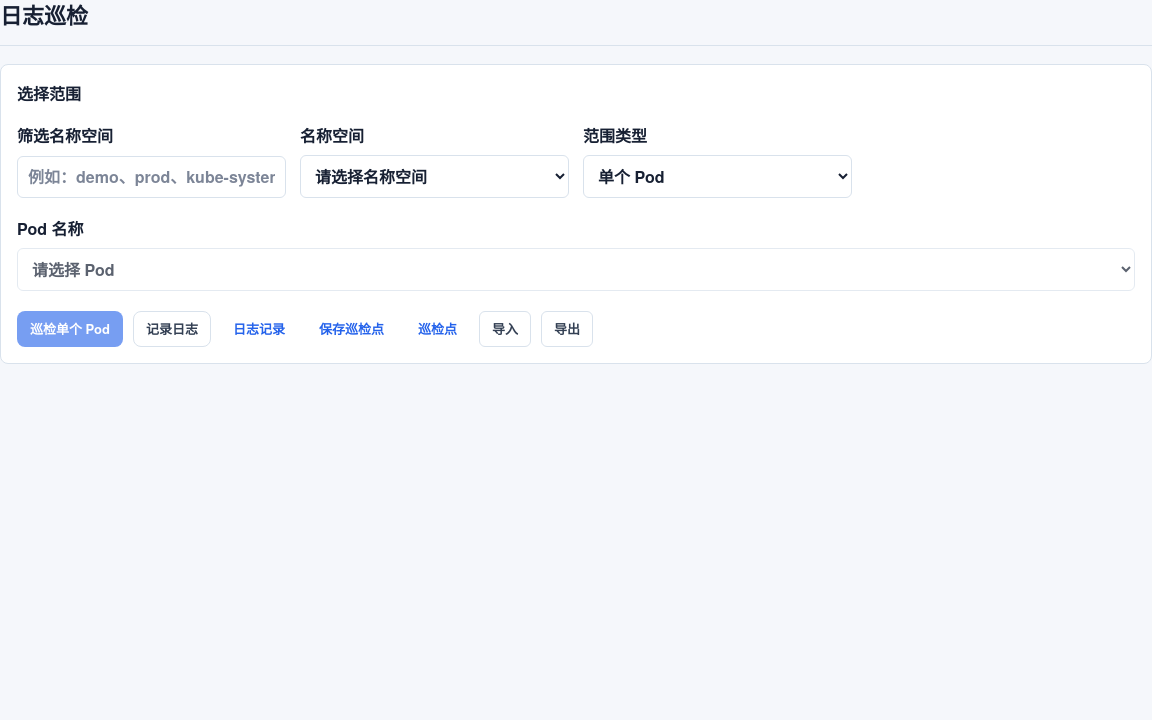
Test: PodInspectionPage › runs label selector mode through namespace inspection
The image size is (1152, 720).
Select "demo" in the dropdown labelled "名称空间" at (434, 176), box [300,155,569,198]
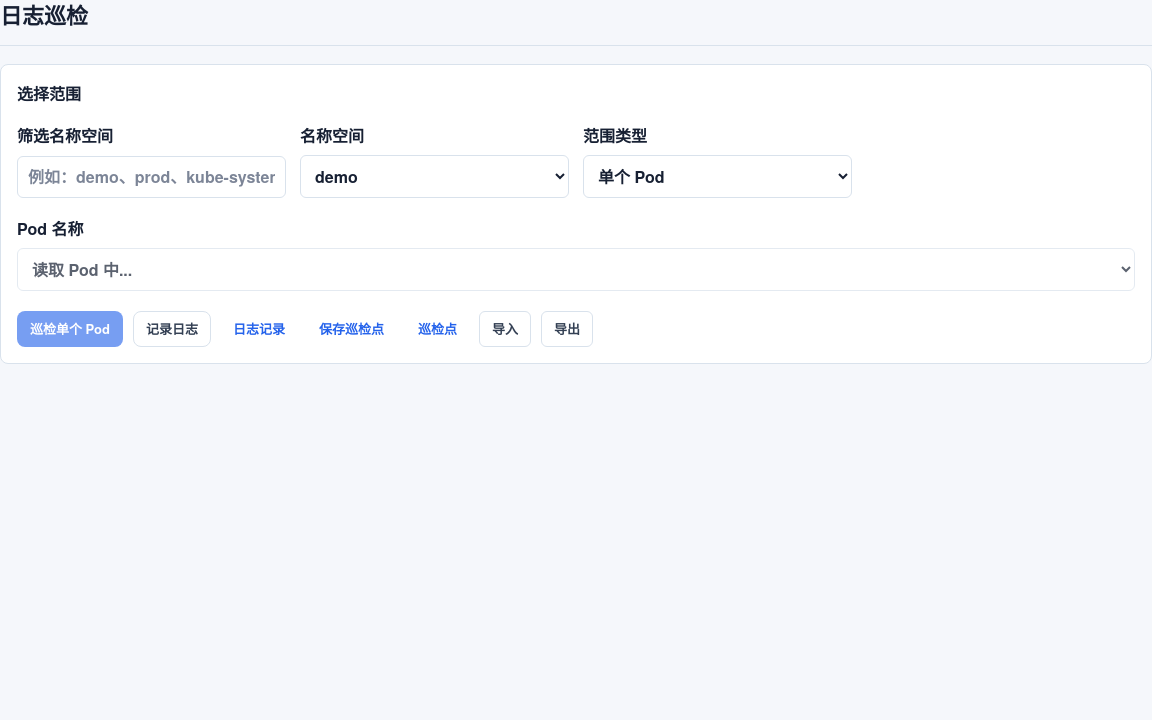
Select "Label Selector" in the dropdown labelled "范围类型" at (718, 176), box [583,155,852,198]
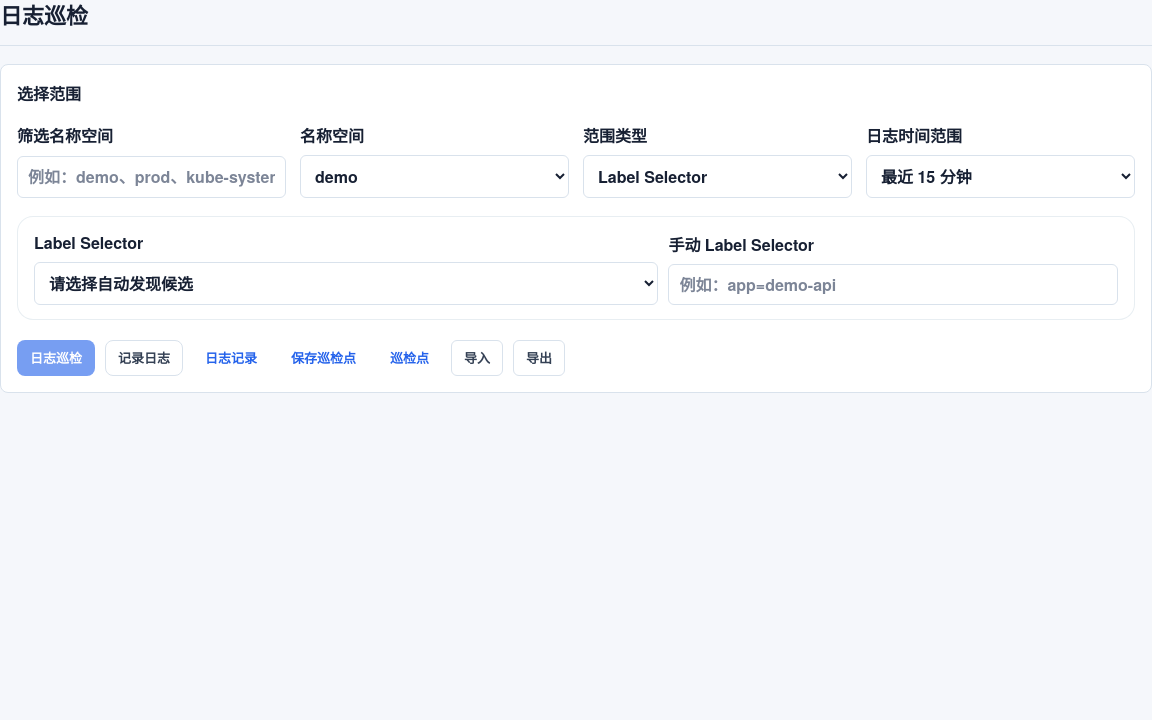
Select "app=demo-api（1 个 Pod）" in the dropdown labelled "Label Selector" at (346, 283), box [34,262,658,305]
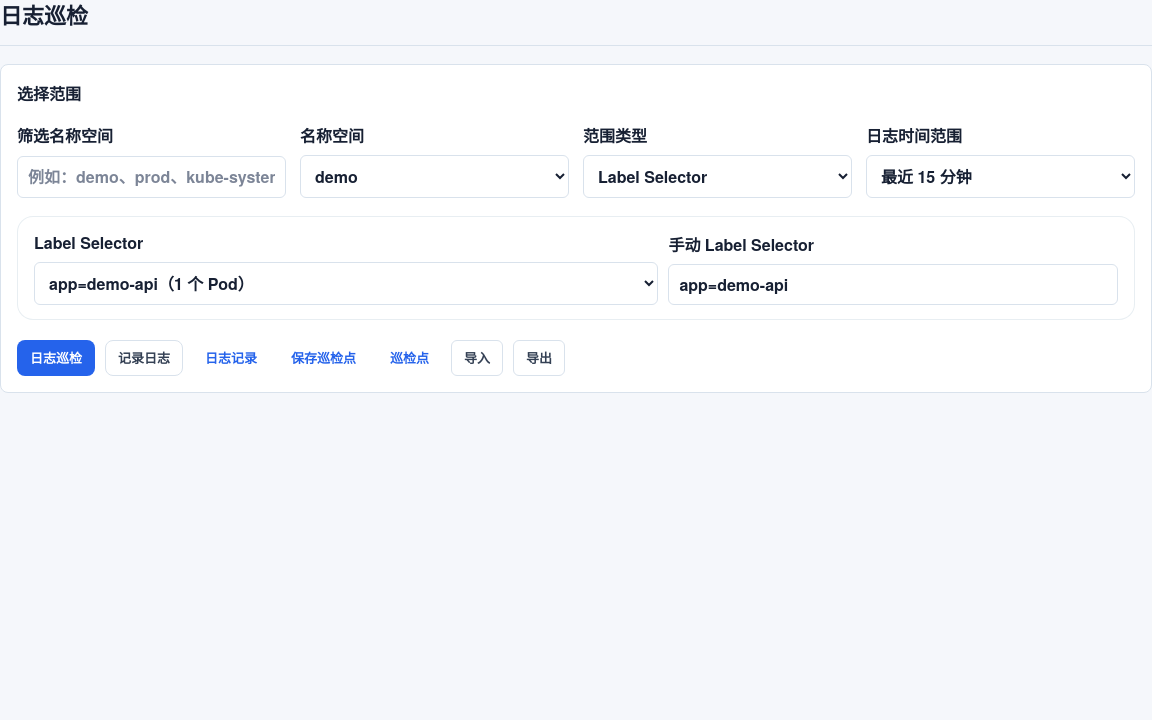
Expected: the field labelled "手动 Label Selector" holds "app=demo-api", [668,264,1118,305]
Click the button "日志巡检" at (56, 358), box [17,340,95,376]
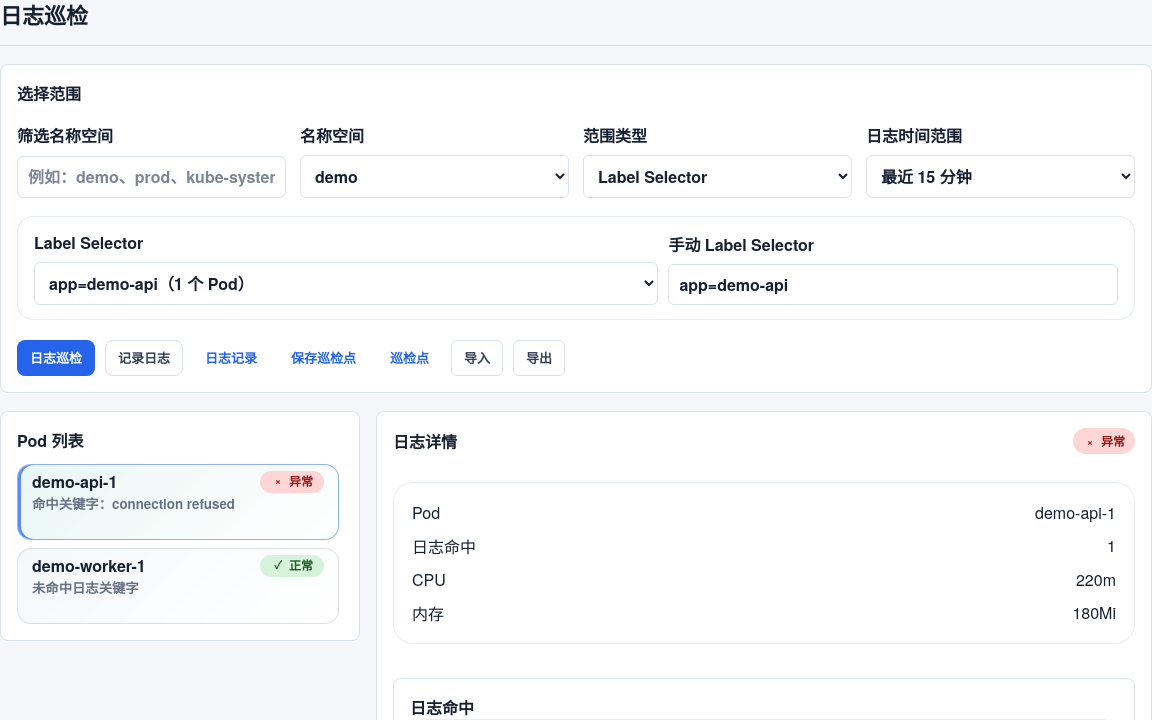
Expected: the heading "Pod 列表" is shown, [17,428,83,452]
Expected: the button "demo-api-1 × 异常 命中关键字：connection refused" is shown, [17,464,339,540]
